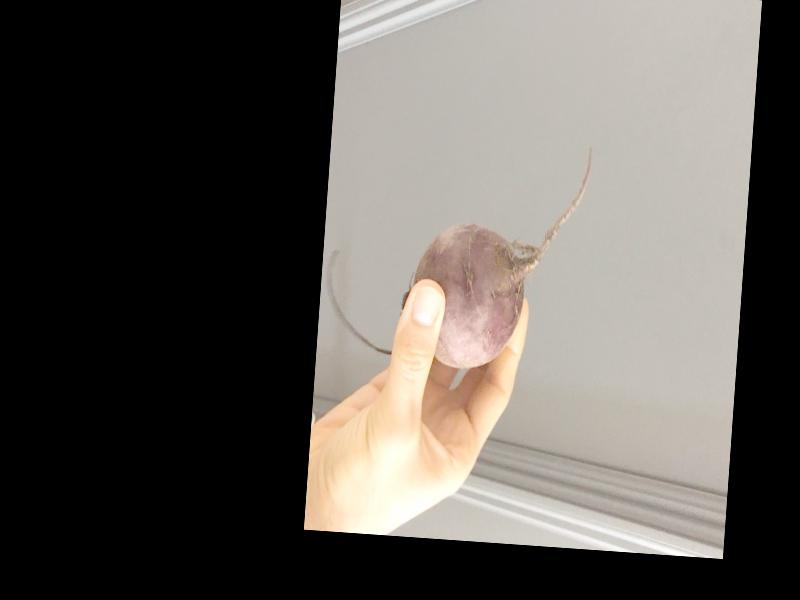Beet: (320, 126, 592, 375)
